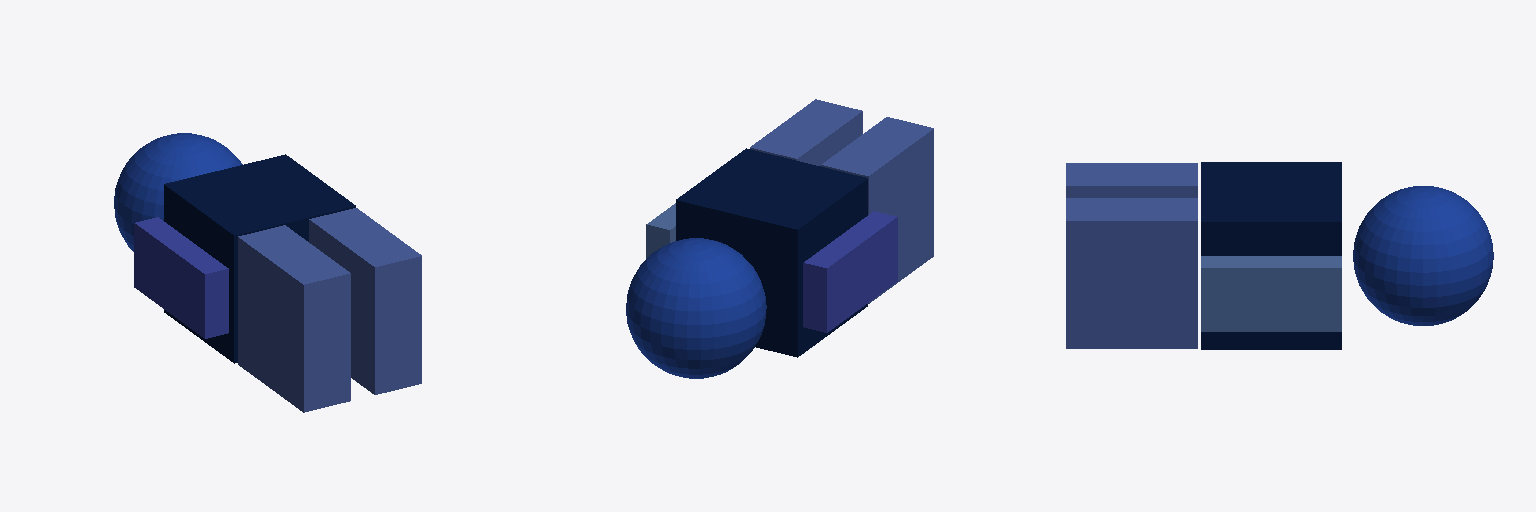
File: sporty_robot_animation_000019.obj
The picture shows the model from 3 angles: view 1: azimuth 30°, elevation 25°; view 2: azimuth 150°, elevation 25°; view 3: azimuth 270°, elevation 25°; orthographic projection.
Parts seen in each view (by area): view 1: Cube.002, Cube.001_Cube.005, Cube, Cube.004, Sphere.001; view 2: Cube, Sphere.001, Cube.002, Cube.004, Cube.001_Cube.005, Cube.003; view 3: Cube.001_Cube.005, Cube, Sphere.001, Cube.003, Cube.002.
Part boxes in pixels (left/top/right/bottom): Cube.002: left=238, top=225, right=350, bottom=412; Cube.001_Cube.005: left=309, top=208, right=421, bottom=394; Cube: left=164, top=154, right=355, bottom=363; Cube.004: left=134, top=217, right=228, bottom=338; Sphere.001: left=114, top=133, right=242, bottom=251; Cube: left=676, top=148, right=867, bottom=357; Sphere.001: left=626, top=238, right=766, bottom=378; Cube.002: left=821, top=117, right=933, bottom=303; Cube.004: left=803, top=211, right=897, bottom=332; Cube.001_Cube.005: left=750, top=99, right=862, bottom=165; Cube.003: left=646, top=203, right=675, bottom=258; Cube.001_Cube.005: left=1066, top=198, right=1197, bottom=348; Cube: left=1201, top=162, right=1341, bottom=349; Sphere.001: left=1353, top=186, right=1493, bottom=325; Cube.003: left=1201, top=256, right=1341, bottom=331; Cube.002: left=1066, top=163, right=1197, bottom=197.
Size of the model in its own units: 0.76 by 0.514 by 1.56.